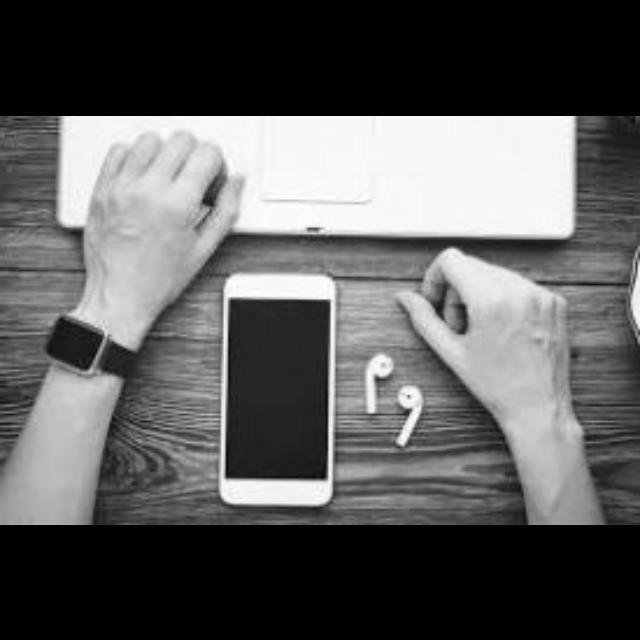fake: (224, 284, 334, 500)
